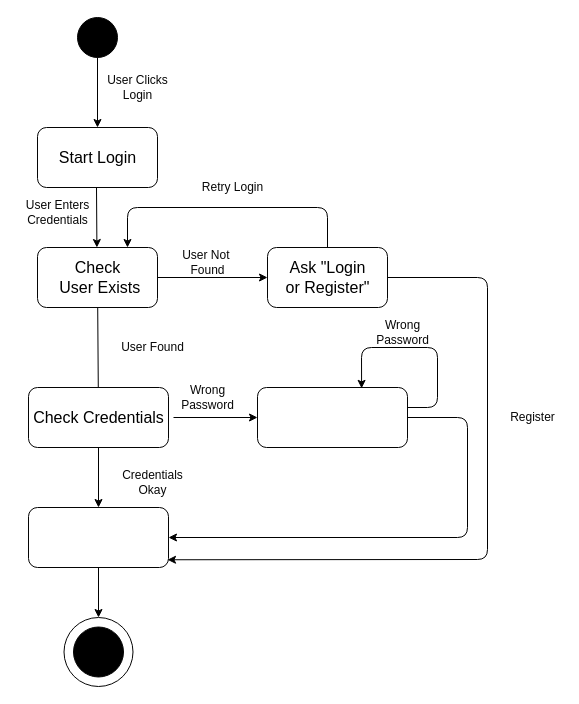
This 579x704 diagram has some shape labels left out. The box of each missing label's shape, as (x1, y1, x2, y2) in pixels:
Prompt Re-Enter Password: (256, 386, 408, 448)
Show Profile Screen: (28, 506, 168, 568)
